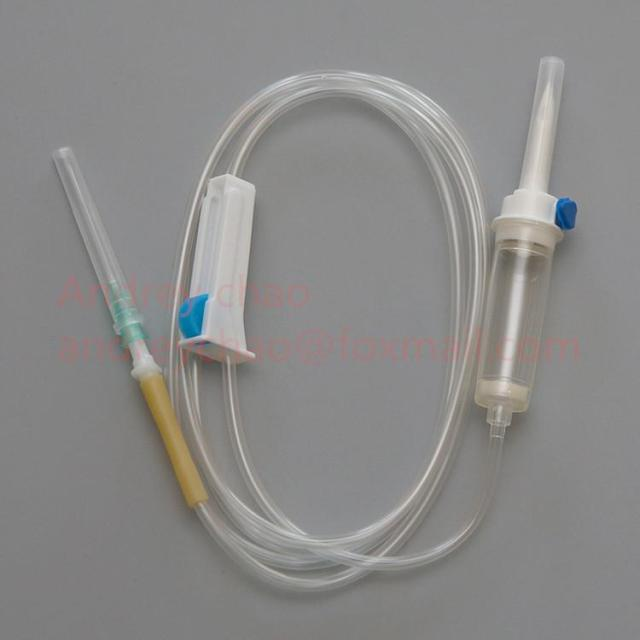B3: (52, 44, 584, 599)
